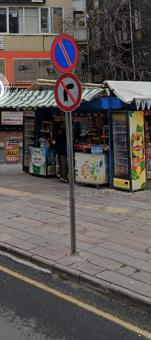nopark: (53, 36, 77, 73)
rightturnsareforbidden: (52, 74, 82, 111)
